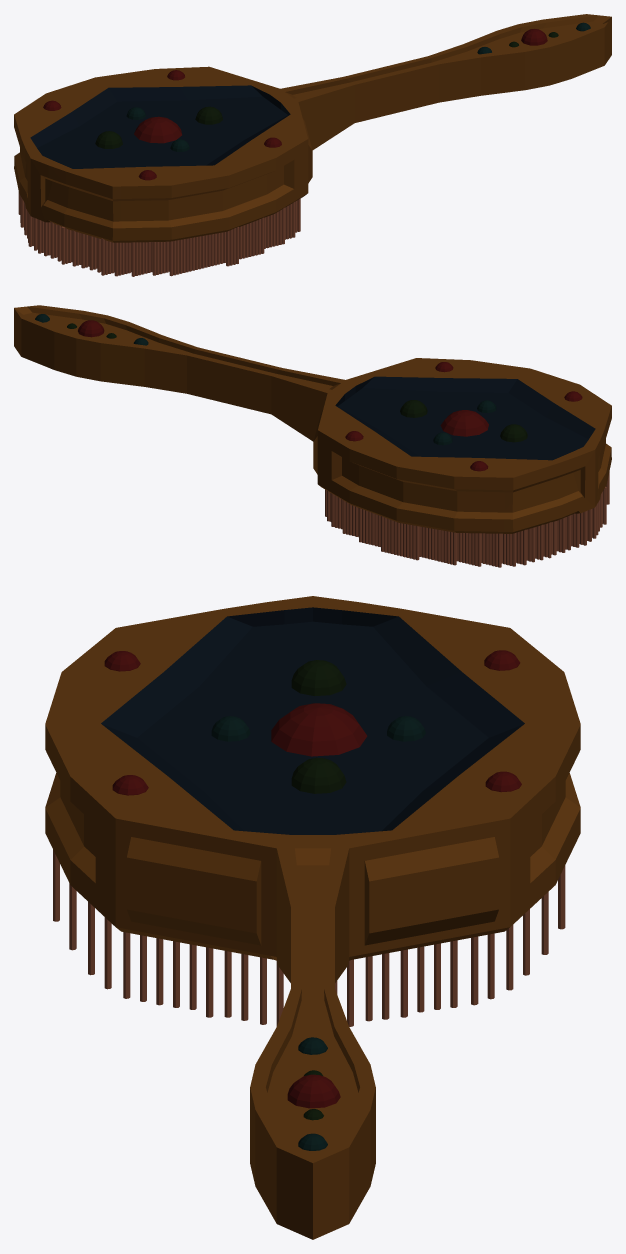
Rendered from testbrush.obj.
3 views of the same model, one above another, from view 1: azimuth 30°, elevation 25°; view 2: azimuth 150°, elevation 25°; view 3: azimuth 270°, elevation 25° (orthographic). The views are drawn at different scales.
Visible parts, largest first — view 1: Cube, Cylinder.030, Cylinder.029, Cylinder.028, Sphere.005, Cylinder.027, Cylinder.026, Cylinder.031, Cylinder.005, Sphere.006, Sphere.007; view 2: Cube, Cylinder.019, Cylinder.020, Cylinder.018, Cylinder.021, Sphere.005, Cylinder.022, Cylinder.023, Sphere.007, Sphere.006; view 3: Cube, Sphere.005, Sphere.007, Sphere.006, Sphere.
Part boxes in pixels (x1,y1,x2,y2): Cube: (14, 14, 611, 242); Cylinder.030: (169, 217, 264, 276); Cylinder.029: (152, 207, 284, 275); Cylinder.028: (131, 202, 295, 276); Sphere.005: (134, 116, 182, 143); Cylinder.027: (114, 198, 300, 276); Cylinder.026: (101, 238, 114, 275); Cylinder.031: (226, 227, 238, 266); Cylinder.005: (61, 226, 72, 264); Sphere.006: (195, 106, 222, 124); Sphere.007: (95, 131, 122, 148); Cube: (14, 305, 611, 533); Cylinder.019: (359, 508, 456, 565); Cylinder.020: (342, 500, 481, 566); Cylinder.018: (381, 516, 419, 560); Cylinder.021: (331, 493, 501, 567); Sphere.005: (440, 410, 488, 436); Cylinder.022: (327, 491, 515, 566); Cylinder.023: (325, 489, 526, 565); Sphere.007: (500, 424, 527, 442); Sphere.006: (400, 400, 427, 417); Cube: (45, 596, 580, 1239); Sphere.005: (271, 703, 367, 756); Sphere.007: (291, 660, 346, 696); Sphere.006: (291, 757, 346, 793); Sphere: (287, 1074, 340, 1108).
Size of the model in its own units: 2.18 by 0.358 by 0.8717.
